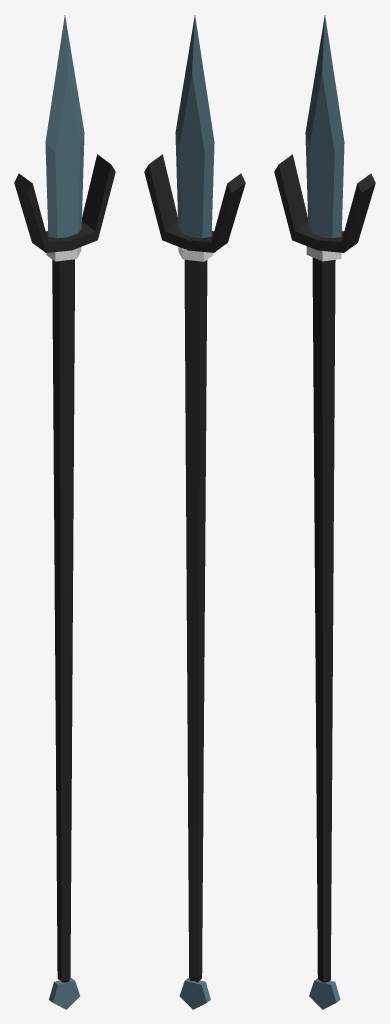
Rendered from Noah_Spear.fbx.
3 views of the same model, side by side, from view 1: azimuth 30°, elevation 25°; view 2: azimuth 150°, elevation 25°; view 3: azimuth 330°, elevation 25° (orthographic).
Parts seen in each view (by area): view 1: Sword_001; view 2: Sword_001; view 3: Sword_001.
Part boxes in pixels (x1,y1,x2,y2): Sword_001: (14,15,115,1009); Sword_001: (144,15,245,1009); Sword_001: (274,15,375,1009).
Size of the model in its own units: 20.76 by 225 by 6.05.
